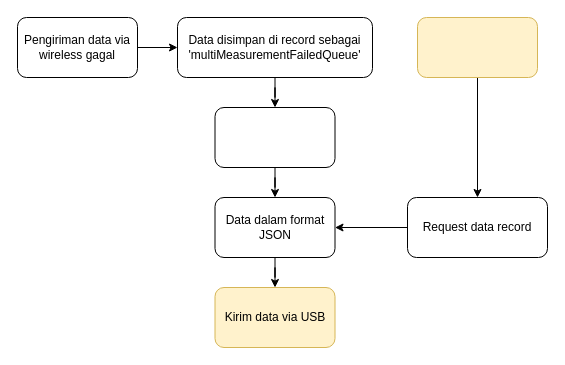
Some shapes in this 565 by 365 pixel diagram are drawn without their labels. Each missing label, with the centre of its shape:
Konversi ke format JSON: pixel 274 137
Menerima message "get": pixel 477 47
